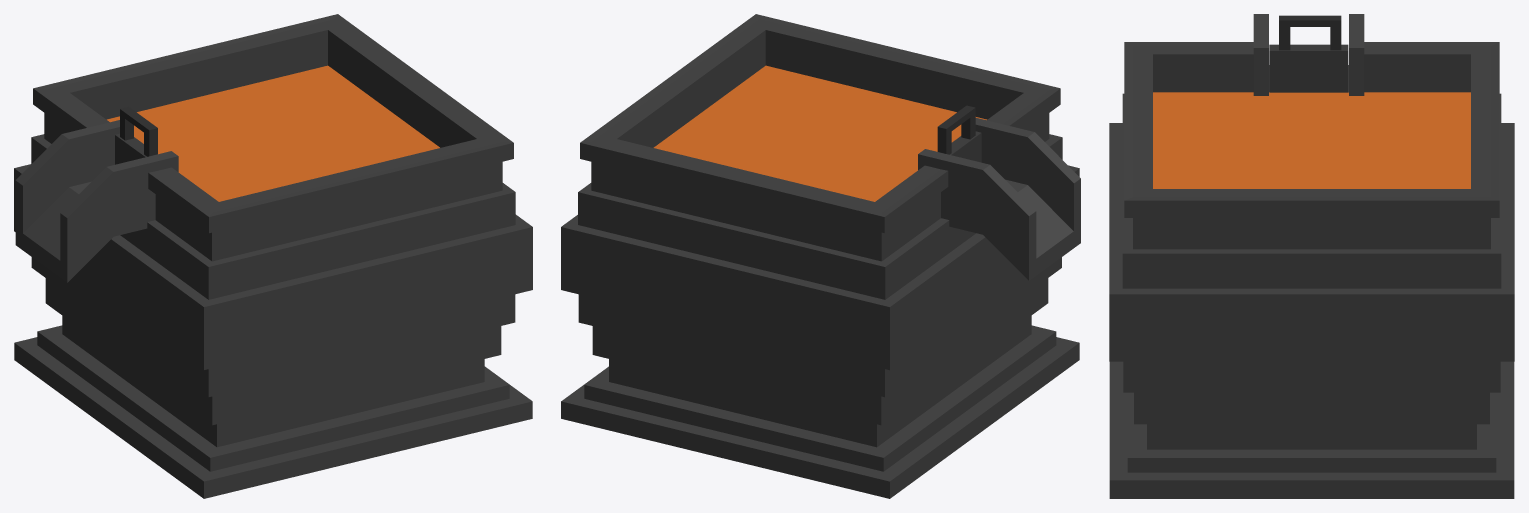
The model's file is boiler_square.fbx.
The picture shows the model from 3 angles, left to right: view 1: azimuth 30°, elevation 25°; view 2: azimuth 150°, elevation 25°; view 3: azimuth 270°, elevation 25°; orthographic projection. The views are drawn at different scales.
Visible parts, largest first — view 1: Cube.001, Cube.006; view 2: Cube.001, Cube.006; view 3: Cube.001, Cube.006.
Boxes of the visible parts, left/top/right/bottom form: Cube.001: left=14, top=14, right=532, bottom=498; Cube.006: left=115, top=106, right=157, bottom=164; Cube.001: left=561, top=14, right=1080, bottom=498; Cube.006: left=937, top=105, right=981, bottom=162; Cube.001: left=1109, top=14, right=1514, bottom=498; Cube.006: left=1269, top=15, right=1348, bottom=92.
Bounding box in the file's own units: 144 × 105 × 119.
